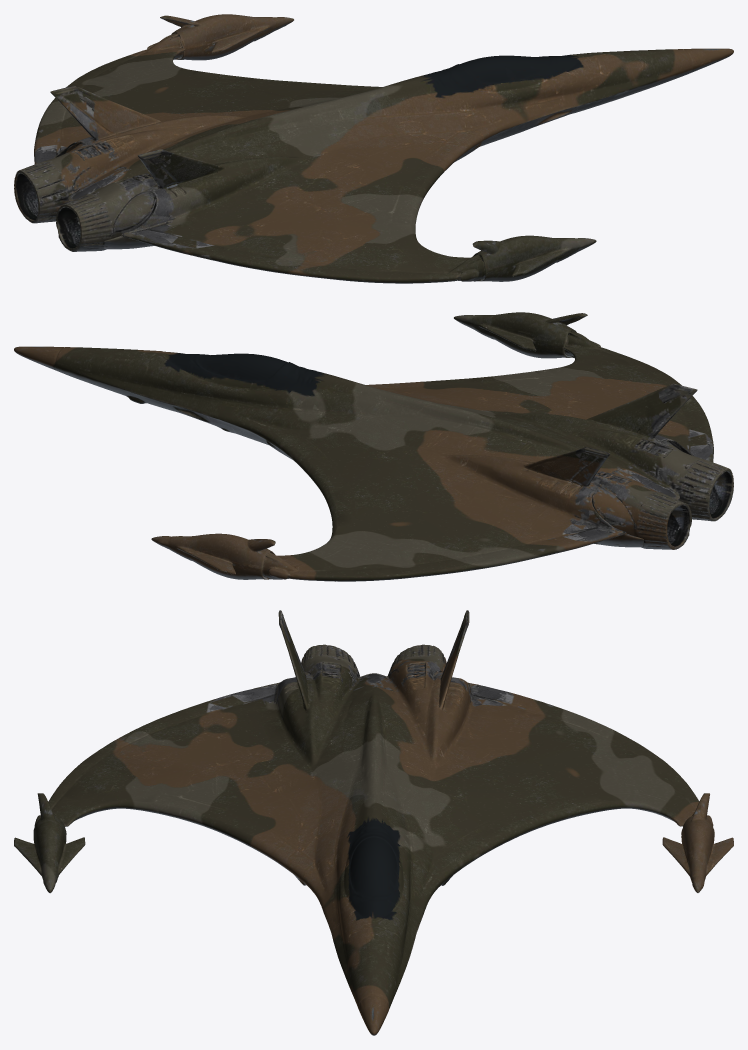
The model's file is fh_hangar_fighter_t5.glb.
3 views of the same model, one above another, from view 1: azimuth 30°, elevation 25°; view 2: azimuth 150°, elevation 25°; view 3: azimuth 270°, elevation 25° (orthographic). The views are drawn at different scales.
Parts seen in each view (by area): view 1: fh_hangar_fighter_t5, flap_r, flap_l, slat_r, slat_l; view 2: fh_hangar_fighter_t5, flap_l, flap_r, slat_l, slat_r; view 3: fh_hangar_fighter_t5, flap_r, flap_l, slat_l, slat_r.
Boxes of the visible parts, x1,y1,x2,y2 form: fh_hangar_fighter_t5: [14, 14, 733, 283]; flap_r: [129, 209, 272, 264]; flap_l: [34, 113, 90, 164]; slat_r: [388, 204, 425, 251]; slat_l: [158, 62, 238, 81]; fh_hangar_fighter_t5: [14, 312, 733, 581]; flap_l: [476, 507, 617, 562]; flap_r: [657, 411, 713, 462]; slat_l: [322, 502, 359, 549]; slat_r: [509, 360, 589, 379]; fh_hangar_fighter_t5: [14, 610, 733, 1035]; flap_r: [170, 684, 271, 734]; flap_l: [476, 684, 577, 734]; slat_l: [560, 795, 645, 820]; slat_r: [102, 796, 187, 820].
Size of the model in its own units: 1 by 0.1659 by 0.8481.
3 materials, 2 textured.
